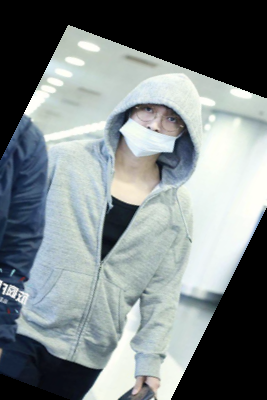mask_weared_incorrect: (101, 69, 214, 183)
